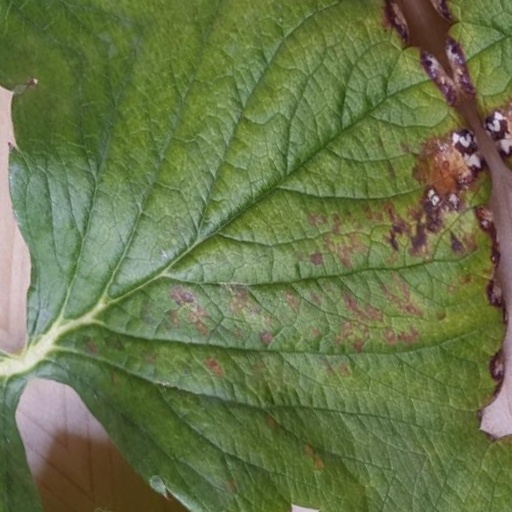Angular Leafspot: (54, 75, 511, 492)
